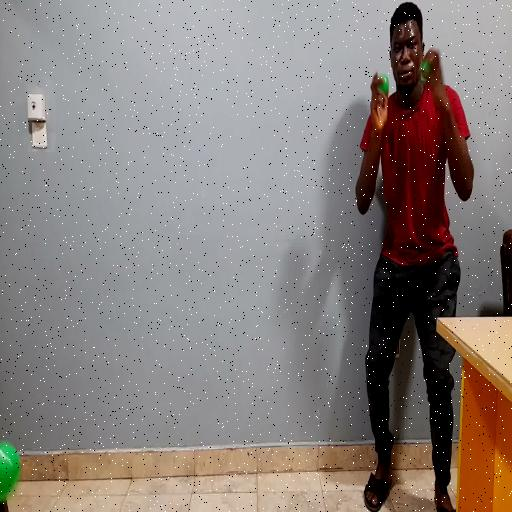plastic-ball: (0, 442, 20, 502)
